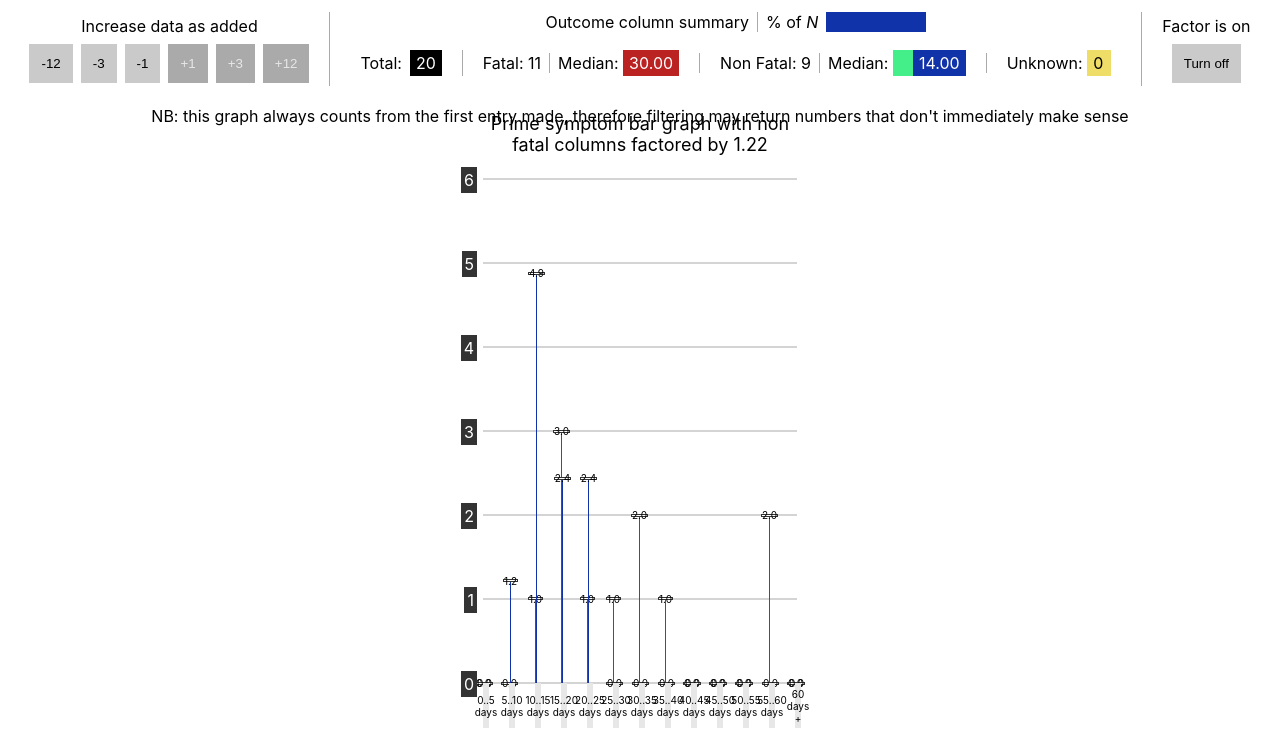
Test: PrimeSymptomHistogram - user key interaction
Expected: the text "Increase data as added" is shown, [81,16,258,36]
Expected: the text "Total:" is shown, [360,53,402,73]
Click the button "Turn off" at coordinates (1206, 63), box [1172,44,1241,82]
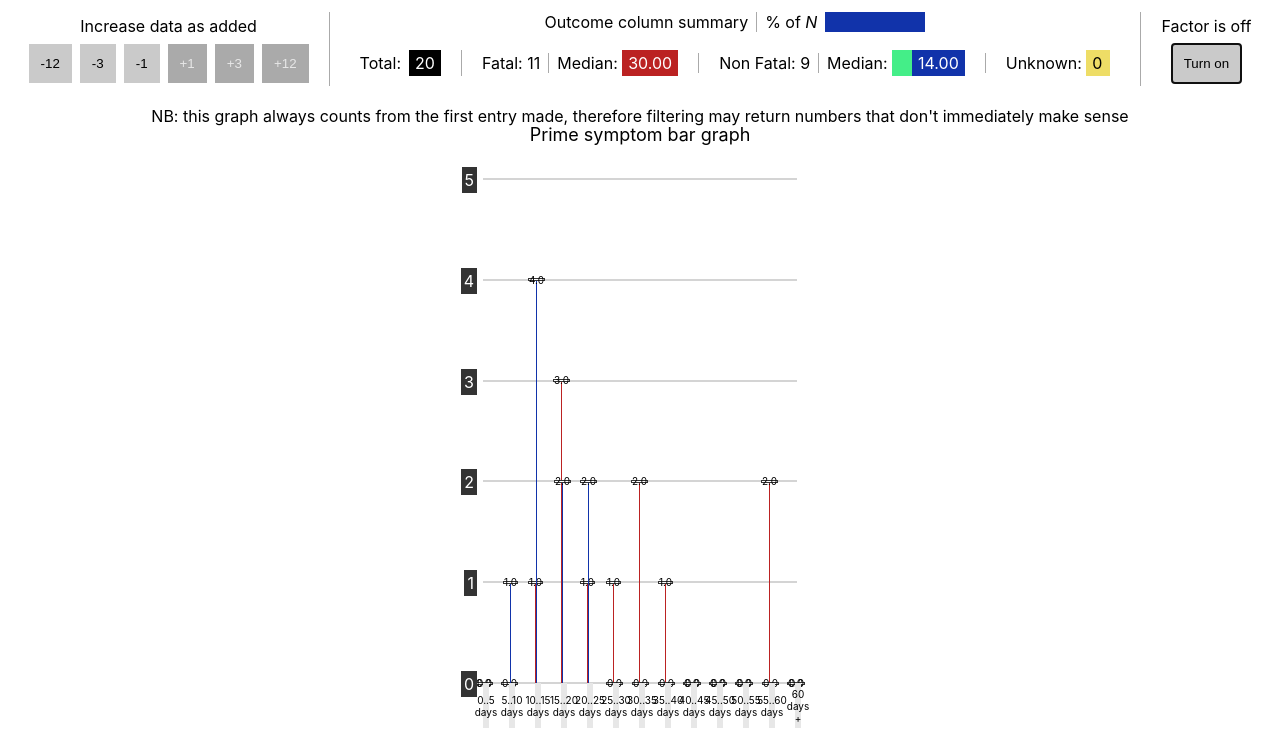
Result: the text "Factor is off" is shown at [1161,16,1251,36]
